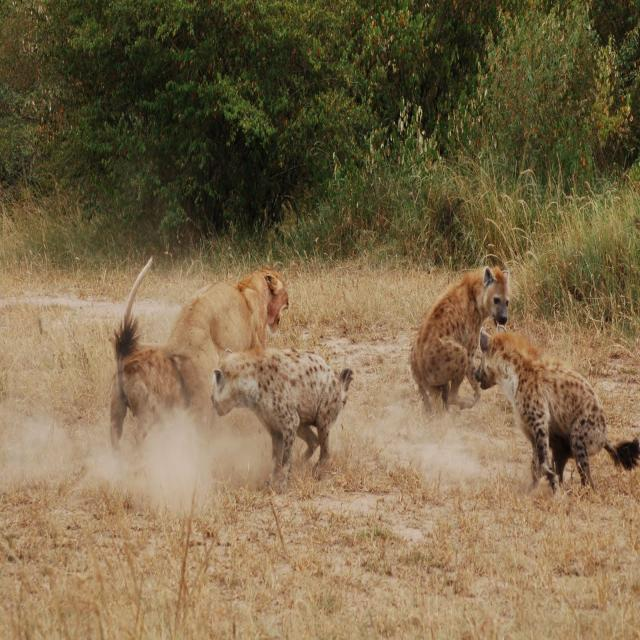Hyena: (472, 325, 614, 497), (213, 343, 354, 488), (410, 265, 514, 409), (104, 332, 184, 465)
Lion: (172, 261, 291, 414)
